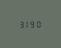nine: (30, 19, 35, 27)
one: (24, 20, 29, 28)
three: (18, 20, 23, 28)
zero: (36, 19, 41, 27)
